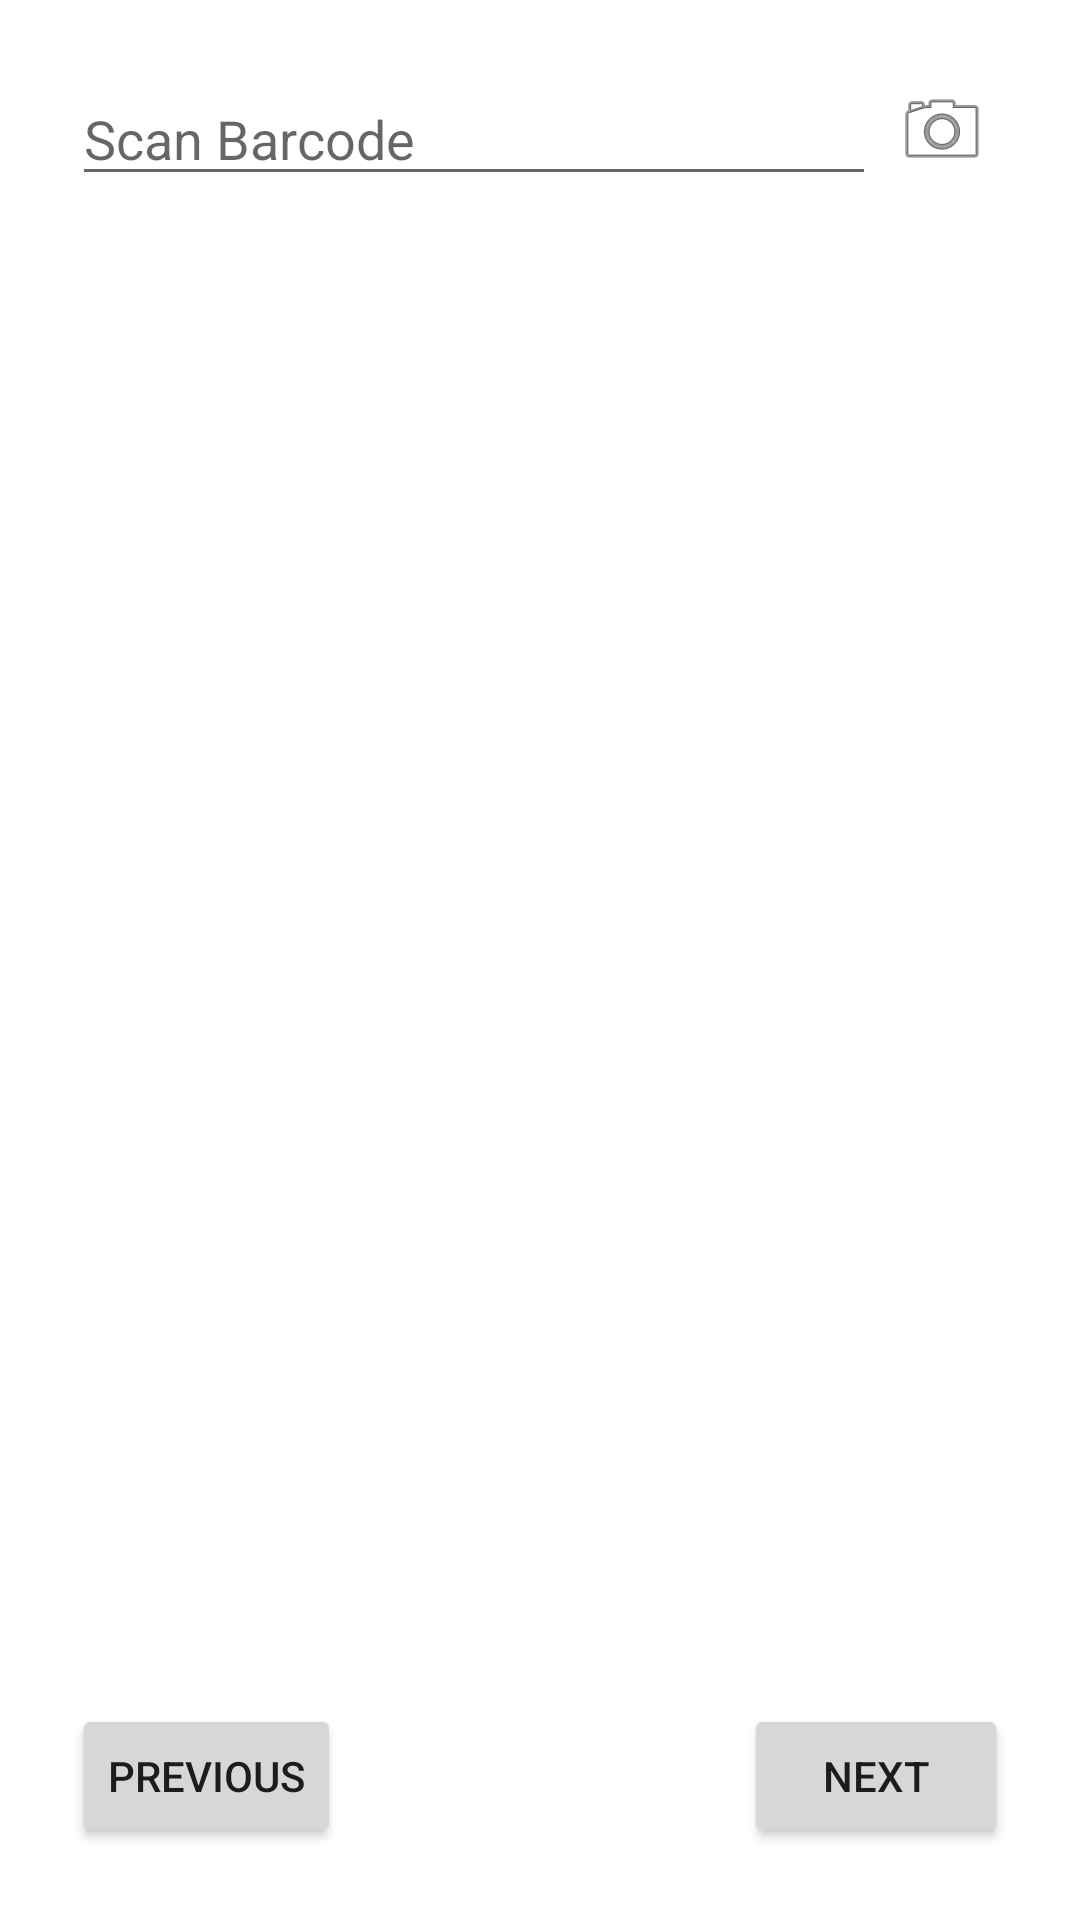

Screen size 1080w x 1920h. Icon name, then its center in pixels as (x,y):
camera: (942,128)
